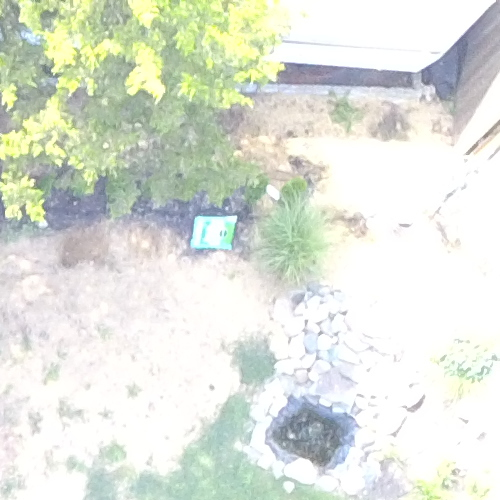stone feature: (266, 365, 376, 478)
